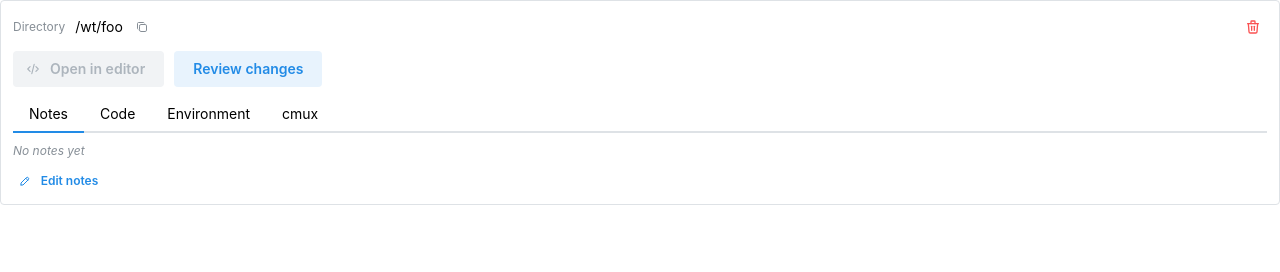
Test case: notes › offers Retry when a save fails, and drops it once a retry succeeds
This screenshot has width=1280, height=272.
Click the button "Edit notes": (60, 181) [13, 170, 106, 192]
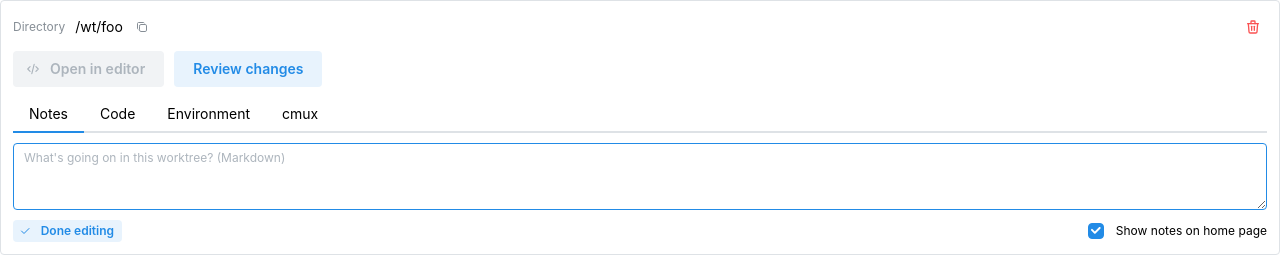
In the text box named "worktree notes": (640, 176) [13, 143, 1267, 210], type "x"
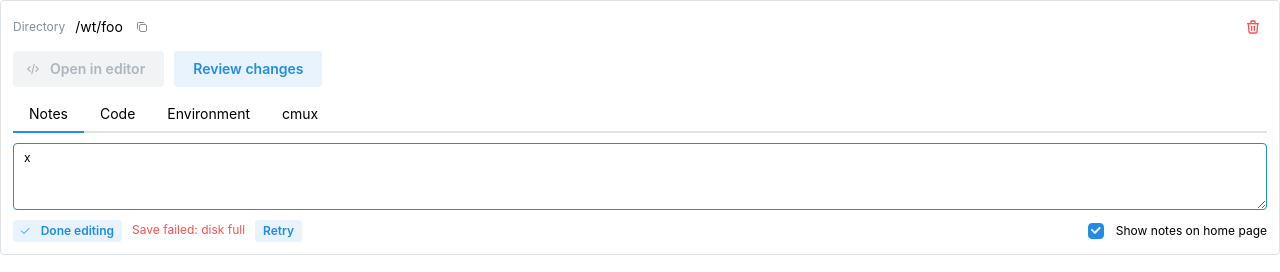
Now the text "Save failed: disk full" is shown, box [132, 222, 245, 239]
Click the button "Retry": (279, 231) [255, 220, 302, 242]
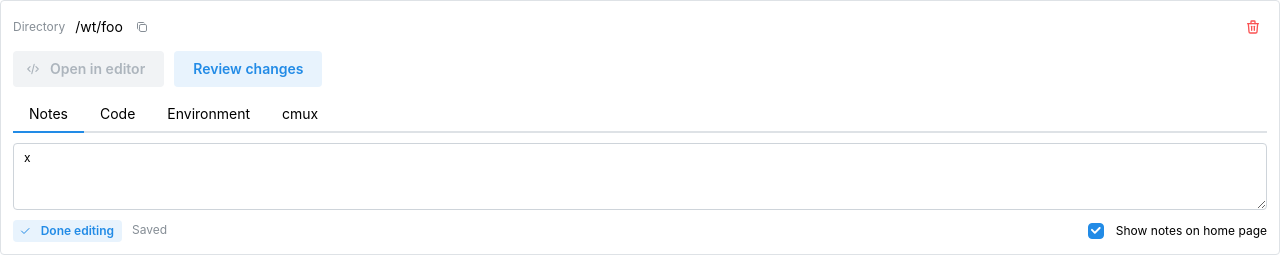
Now the text "Saved" is shown, box [132, 222, 167, 239]
Now the button "Retry" is gone
